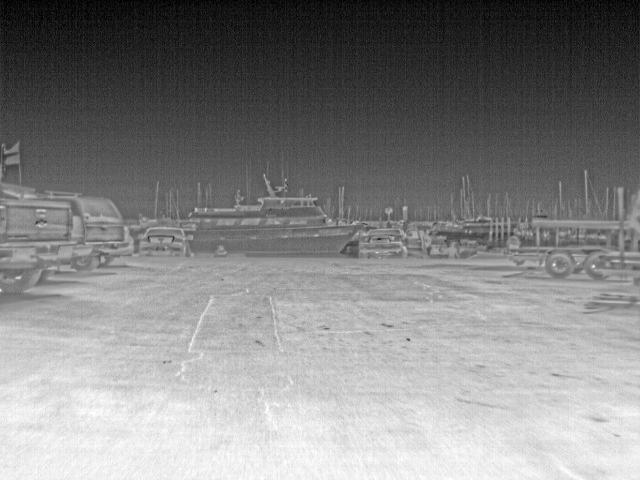car: (0, 194, 75, 295), (41, 192, 121, 271), (358, 225, 422, 260), (138, 226, 194, 258), (76, 213, 92, 257), (114, 225, 135, 255)
person: (446, 241, 461, 261)
